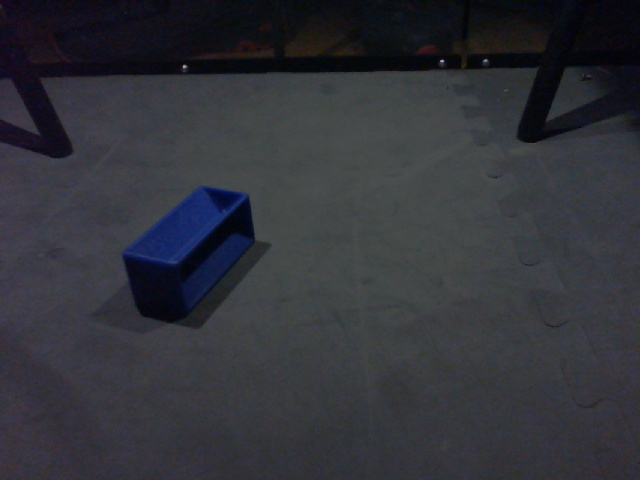BlueSample: (120, 180, 257, 325)
